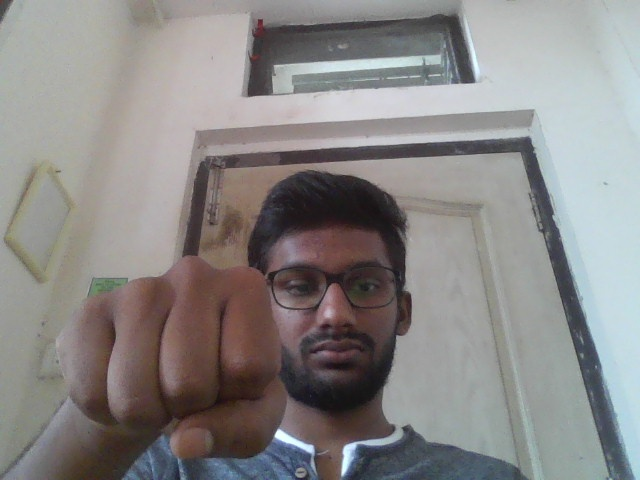No: (45, 250, 292, 463)
